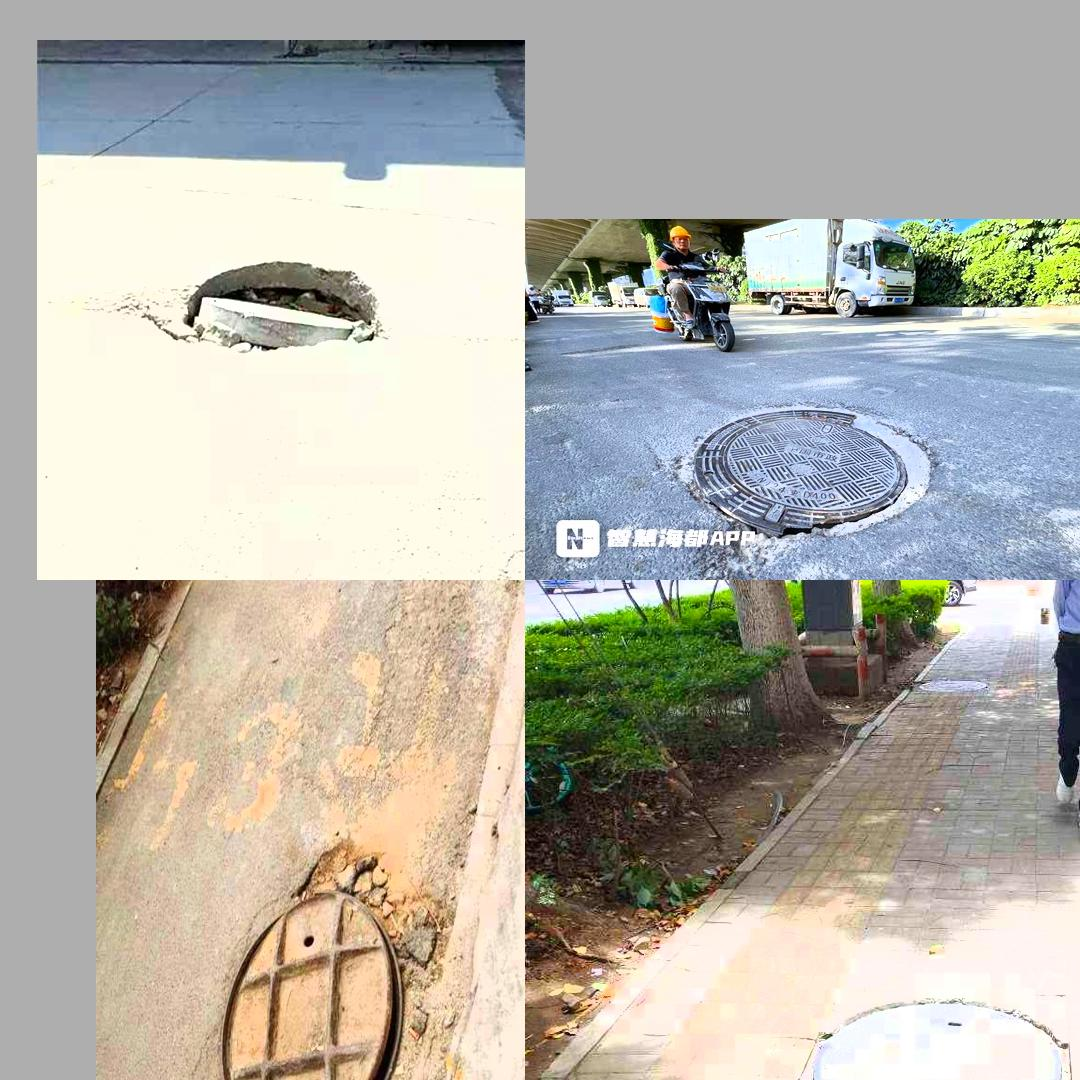circle: (203, 807, 476, 1080), (647, 388, 971, 552), (115, 247, 402, 380), (804, 997, 1069, 1080)
